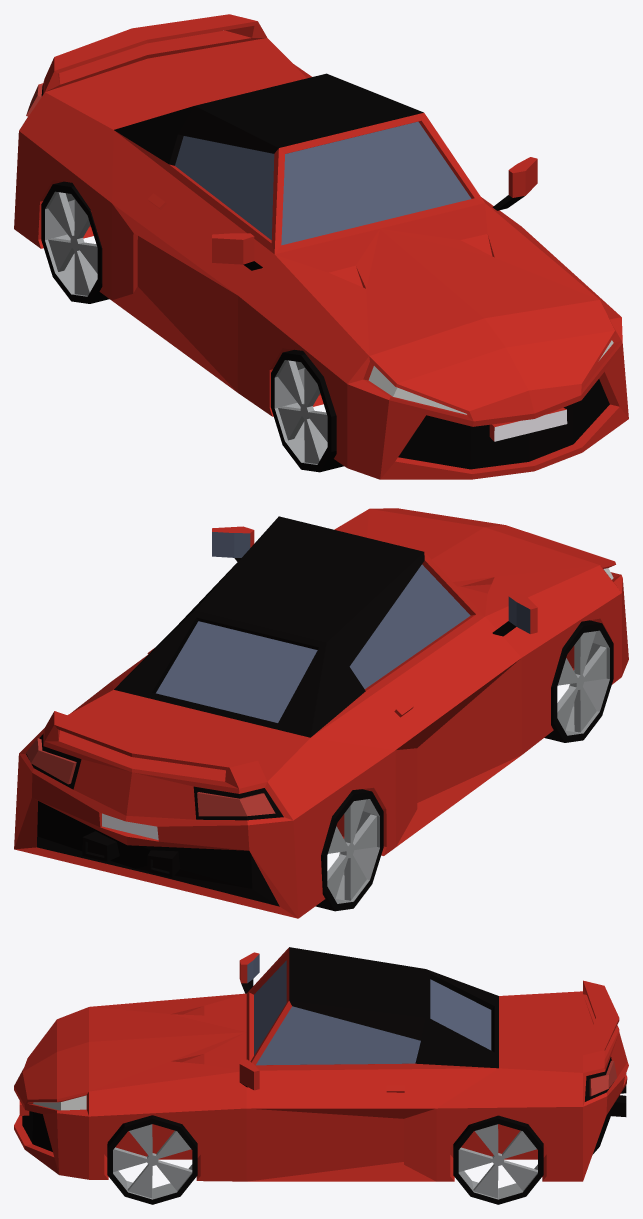
File: sports.glb
The picture shows the model from 3 angles, top to bottom: view 1: azimuth 30°, elevation 25°; view 2: azimuth 150°, elevation 25°; view 3: azimuth 270°, elevation 25°; orthographic projection. The views are drawn at different scales.
Visible parts, largest first — view 1: paint, glass, wheel_fr, wheel_rr, headlights; view 2: paint, glass, wheel_fr, wheel_rr, taillights; view 3: paint, glass, wheel_fl, wheel_rl, taillights, headlights.
Part boxes in pixels (x1,y1,x2,y2): paint: [14, 14, 628, 479]; glass: [175, 121, 471, 245]; wheel_fr: [271, 349, 343, 472]; wheel_rr: [41, 181, 109, 303]; headlights: [368, 340, 613, 414]; paint: [14, 508, 628, 918]; glass: [156, 532, 530, 722]; wheel_fr: [544, 620, 613, 742]; wheel_rr: [315, 789, 383, 911]; taillights: [26, 738, 275, 816]; paint: [14, 947, 628, 1181]; glass: [247, 954, 491, 1065]; wheel_fl: [107, 1115, 197, 1204]; wheel_rl: [453, 1115, 543, 1204]; taillights: [589, 1061, 616, 1096]; headlights: [33, 1095, 86, 1110].
Size of the model in its own units: 1.65 by 1.15 by 3.58.
